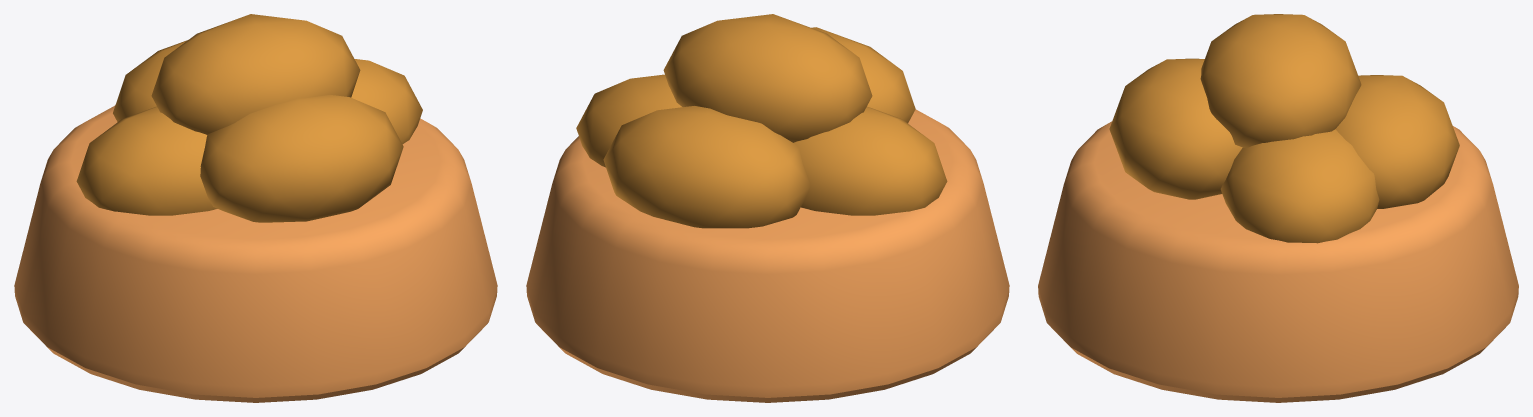
The model's file is food_nuggets.glb.
3 renders of one model, left to right at view 1: azimuth 30°, elevation 25°; view 2: azimuth 150°, elevation 25°; view 3: azimuth 270°, elevation 25°, orthographic.
Visible parts, largest first — view 1: nuggets; view 2: nuggets; view 3: nuggets.
Boxes of the visible parts, x1,y1,x2,y2 form: nuggets: (14, 14, 497, 402); nuggets: (526, 14, 1009, 402); nuggets: (1038, 14, 1518, 402).
Bounding box in the file's own units: 0.391 × 0.2525 × 0.391.
